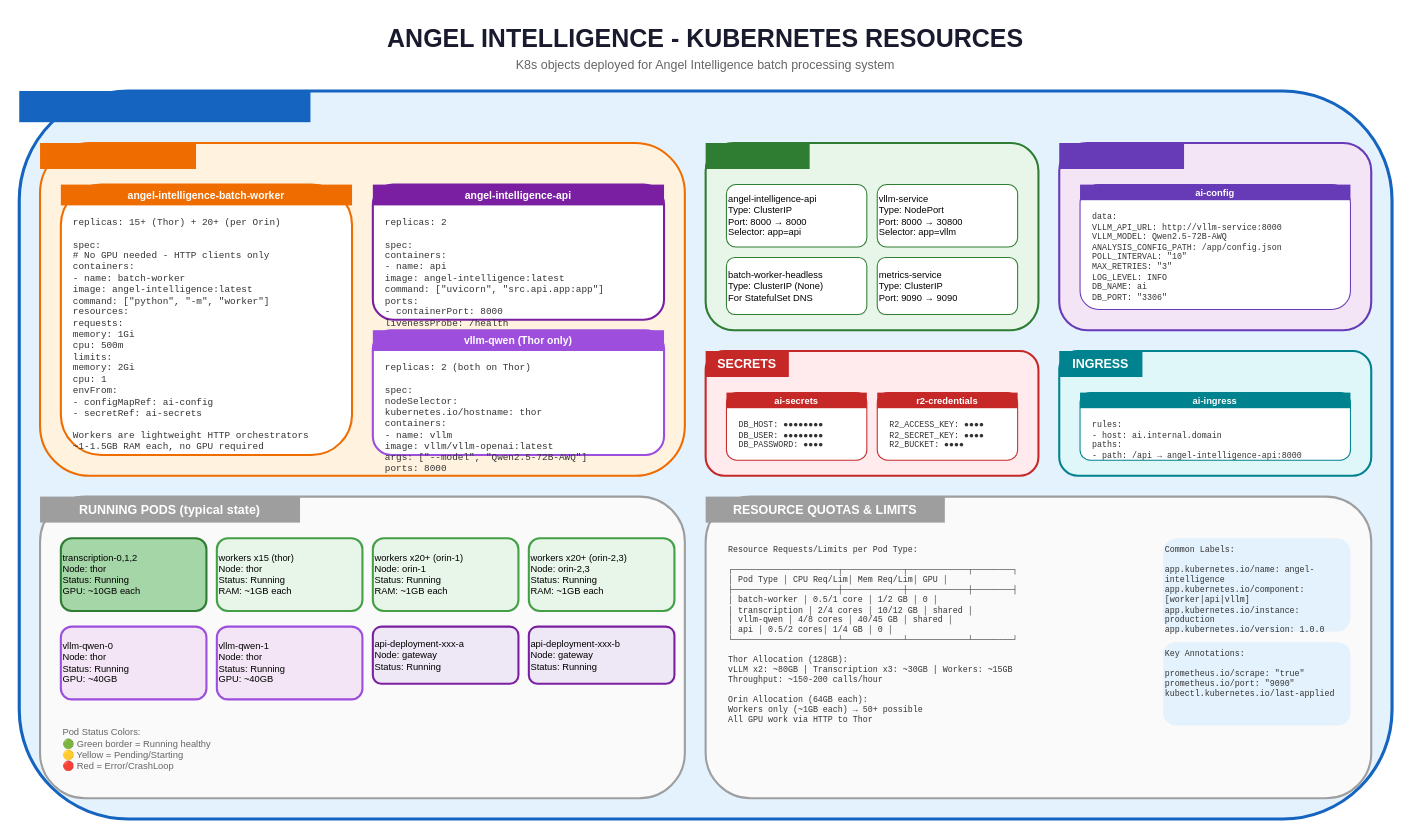
Some shapes in this 1411 by 838 pixel diagram are drawn without their labels. The shapes that lost their labels are listed below. From the top down, each one's box as (x1, y1, x2, y2) in pixels, then its label:
(19, 90, 310, 122): NAMESPACE: angel-intelligence
(40, 142, 196, 168): DEPLOYMENTS
(705, 142, 809, 168): SERVICES
(1059, 142, 1184, 168): CONFIGMAPS
